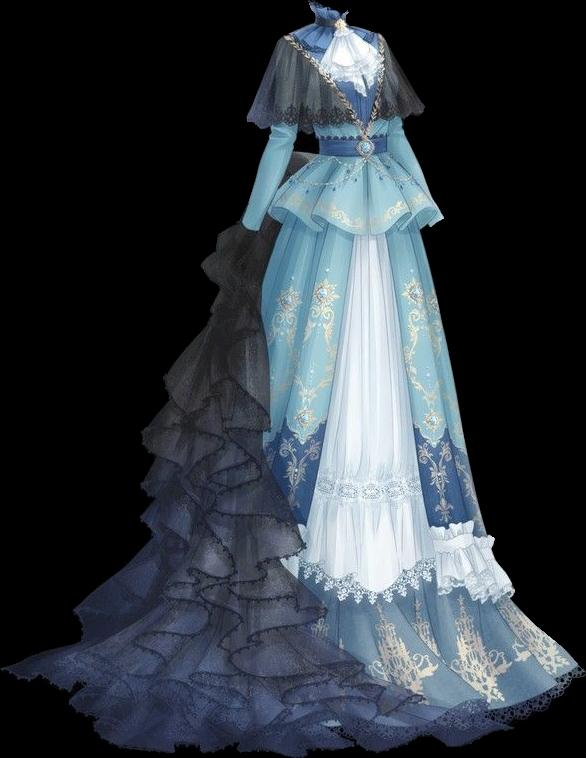Bodice: (279, 0, 401, 157)
Hemline: (198, 260, 584, 730), (0, 663, 585, 757), (257, 204, 445, 238)
Neckline: (287, 32, 385, 140), (313, 129, 388, 143), (306, 0, 346, 18)
Skirt: (0, 153, 585, 757)
Sleeve: (240, 38, 310, 230)
Sleeveline: (279, 33, 311, 119), (246, 113, 311, 134)
Waistline: (316, 147, 392, 162)
